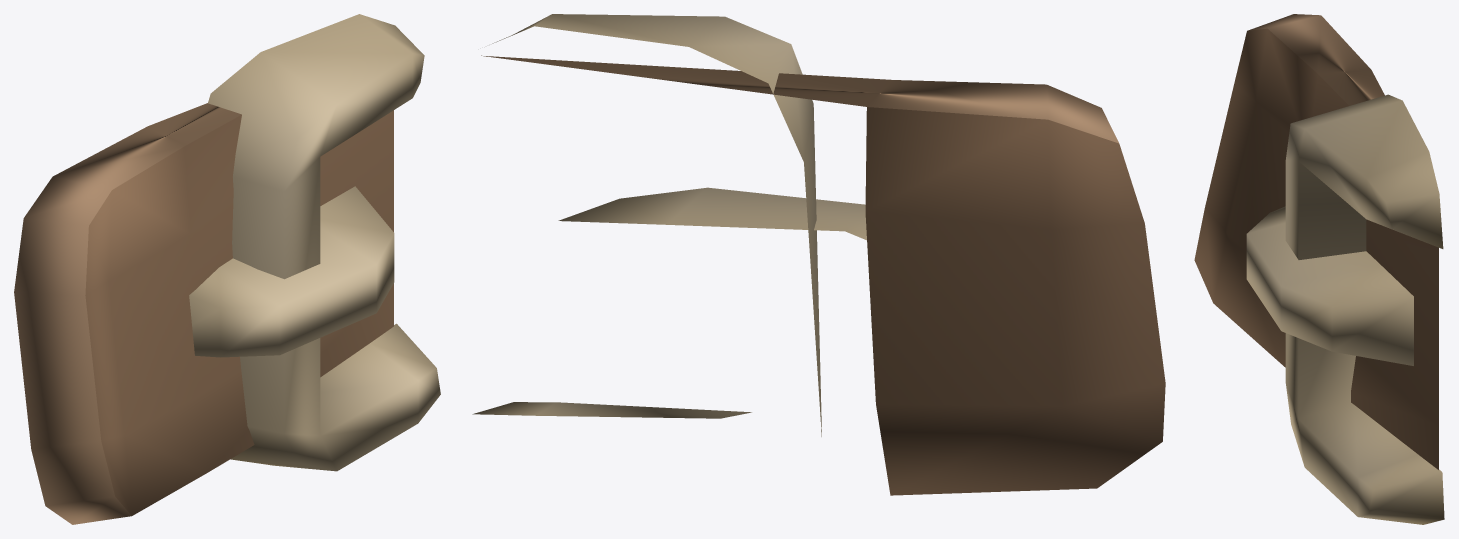
The model's file is ChairliftBelt.glb.
3 views of the same model, side by side, from view 1: azimuth 30°, elevation 25°; view 2: azimuth 150°, elevation 25°; view 3: azimuth 270°, elevation 25° (orthographic). The views are drawn at different scales.
Visible parts, largest first — view 1: ChairliftBelt; view 2: ChairliftBelt; view 3: ChairliftBelt.
Part boxes in pixels (bbox=[...]): ChairliftBelt: bbox=[14, 14, 440, 524]; ChairliftBelt: bbox=[472, 14, 1165, 495]; ChairliftBelt: bbox=[1194, 14, 1444, 524].
Bounding box in the file's own units: 0.3004 × 0.2449 × 0.1489.
